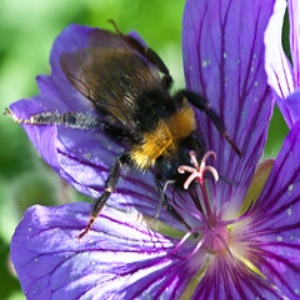bee: (21, 17, 251, 241)
